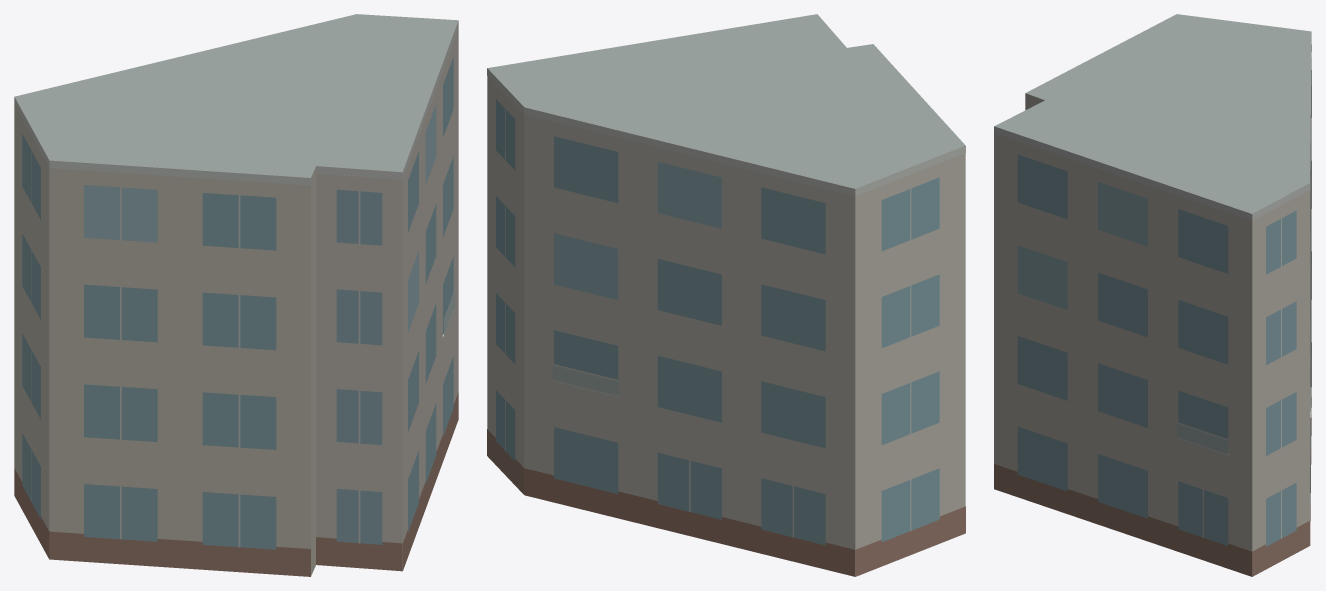
Rendered from survey-upis-32524908.glb.
3 views of the same model, side by side, from view 1: azimuth 30°, elevation 25°; view 2: azimuth 150°, elevation 25°; view 3: azimuth 270°, elevation 25° (orthographic). The views are drawn at different scales.
Parts seen in each view (by area): view 1: survey-upis-32524908.tmp; view 2: survey-upis-32524908.tmp; view 3: survey-upis-32524908.tmp.
Part boxes in pixels (bbox=[...]): survey-upis-32524908.tmp: bbox=[14, 14, 458, 576]; survey-upis-32524908.tmp: bbox=[487, 14, 965, 576]; survey-upis-32524908.tmp: bbox=[994, 14, 1311, 576].
Size of the model in its own units: 15.14 by 12.8 by 10.17.
